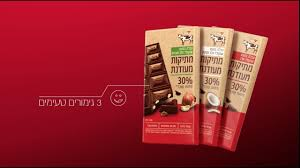Chocolate: (206, 23, 267, 155), (143, 29, 197, 148), (177, 21, 224, 149)
